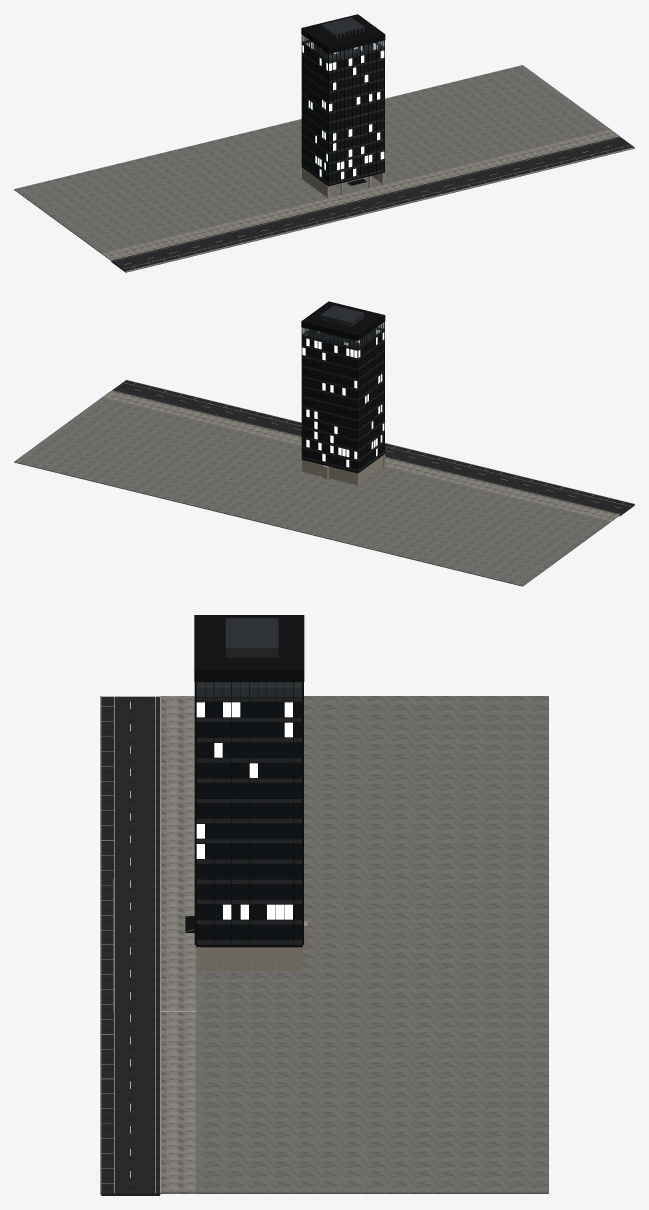
File: harbor_frontage_baked.glb
3 views of the same model, one above another, from view 1: azimuth 30°, elevation 25°; view 2: azimuth 150°, elevation 25°; view 3: azimuth 270°, elevation 25° (orthographic). The views are drawn at different scales.
Parts seen in each view (by area): view 1: Sidewalk_Rest, Harbor_Tower_Upper, Road_Rest, Road_Frontage_Baked, Sidewalk_Frontage_Baked, Curbs_Rest, Harbor_Tower.001, Curbs_Frontage_Baked; view 2: Sidewalk_Rest, Harbor_Tower_Upper, Road_Rest, Harbor_Tower.001, Road_Frontage_Baked, Curbs_Rest, Sidewalk_Frontage_Baked; view 3: Sidewalk_Rest, Harbor_Tower_Upper, Road_Rest, Road_Frontage_Baked, Sidewalk_Frontage_Baked, Harbor_Tower.001, Curbs_Rest.
Boxes of the visible parts, bbox=[...] form: Sidewalk_Rest: bbox=[14, 65, 619, 260]; Harbor_Tower_Upper: bbox=[301, 14, 385, 185]; Road_Rest: bbox=[111, 136, 634, 272]; Road_Frontage_Baked: bbox=[297, 182, 448, 227]; Sidewalk_Frontage_Baked: bbox=[288, 175, 433, 214]; Curbs_Rest: bbox=[111, 136, 634, 272]; Harbor_Tower.001: bbox=[301, 166, 385, 198]; Curbs_Frontage_Baked: bbox=[297, 181, 449, 226]; Sidewalk_Rest: bbox=[14, 391, 619, 586]; Harbor_Tower_Upper: bbox=[301, 301, 385, 472]; Road_Rest: bbox=[112, 380, 634, 516]; Harbor_Tower.001: bbox=[301, 453, 385, 485]; Road_Frontage_Baked: bbox=[298, 433, 448, 469]; Curbs_Rest: bbox=[111, 379, 634, 515]; Sidewalk_Frontage_Baked: bbox=[288, 436, 433, 475]; Sidewalk_Rest: bbox=[161, 696, 548, 1193]; Harbor_Tower_Upper: bbox=[194, 615, 304, 945]; Road_Rest: bbox=[101, 696, 159, 1195]; Road_Frontage_Baked: bbox=[101, 878, 159, 1011]; Sidewalk_Frontage_Baked: bbox=[161, 877, 196, 1010]; Harbor_Tower.001: bbox=[196, 921, 307, 972]; Curbs_Rest: bbox=[100, 696, 161, 1194].
Bounding box in the file's own units: 200 × 59.05 × 76.4.
16 materials, 5 textured.
